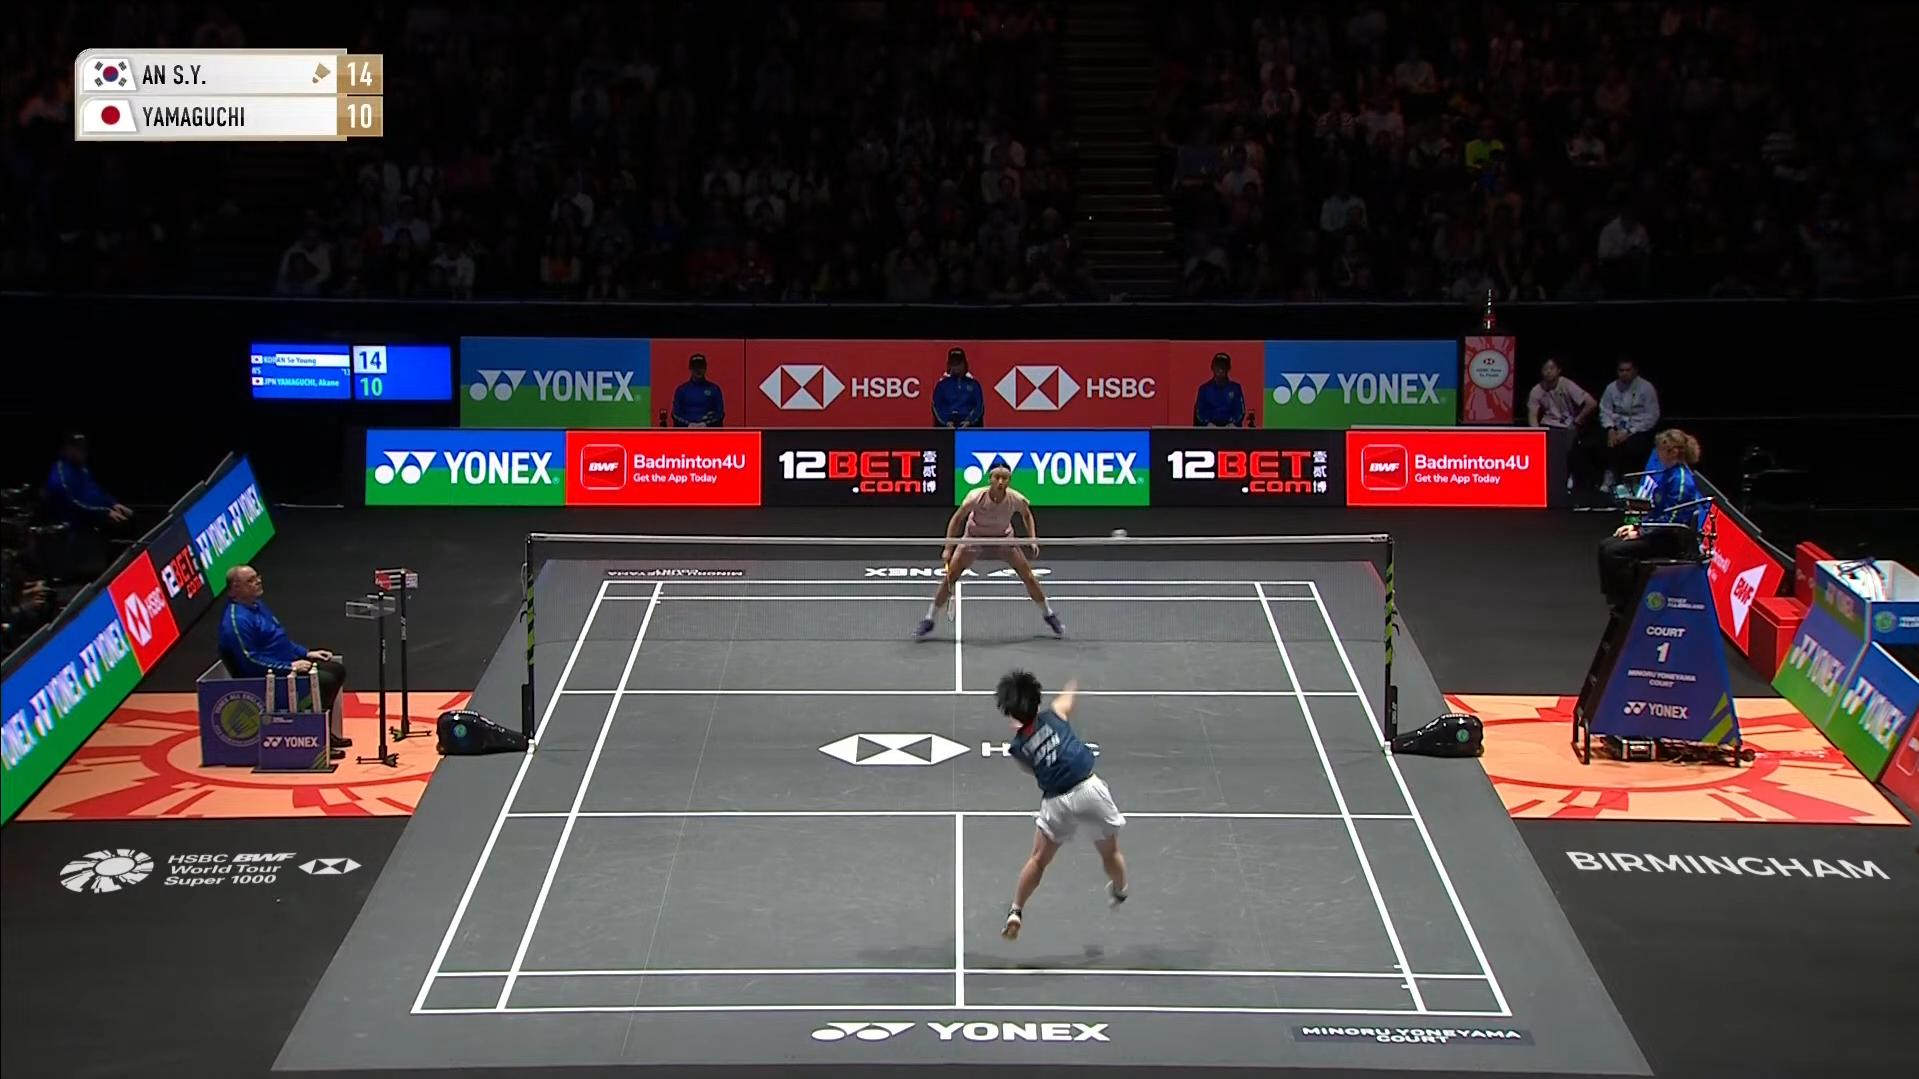shuttle: (1106, 518, 1132, 553)
